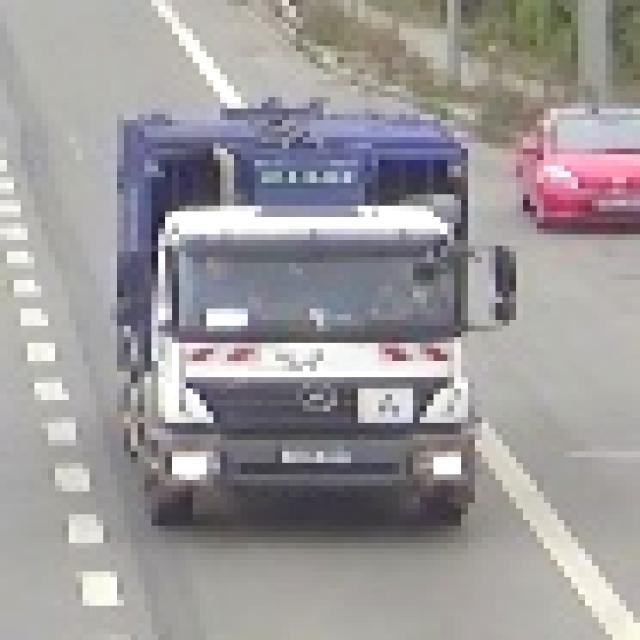truck: (98, 92, 511, 527)
